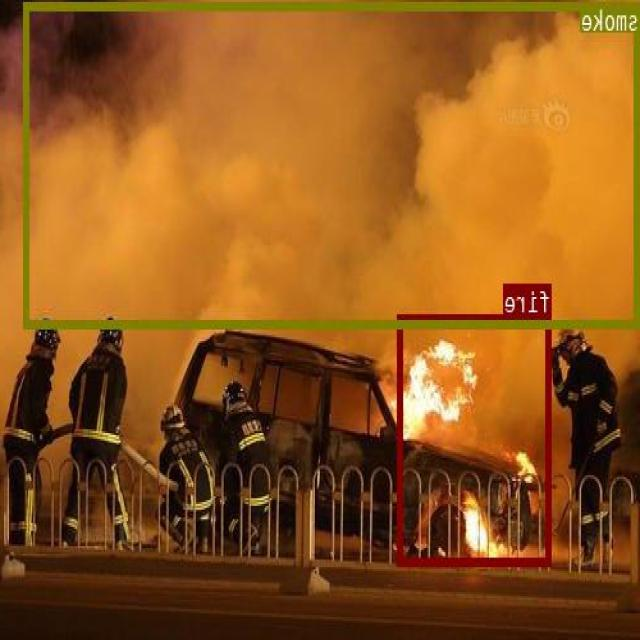fire: (398, 312, 552, 564)
smoke: (24, 2, 640, 326)
